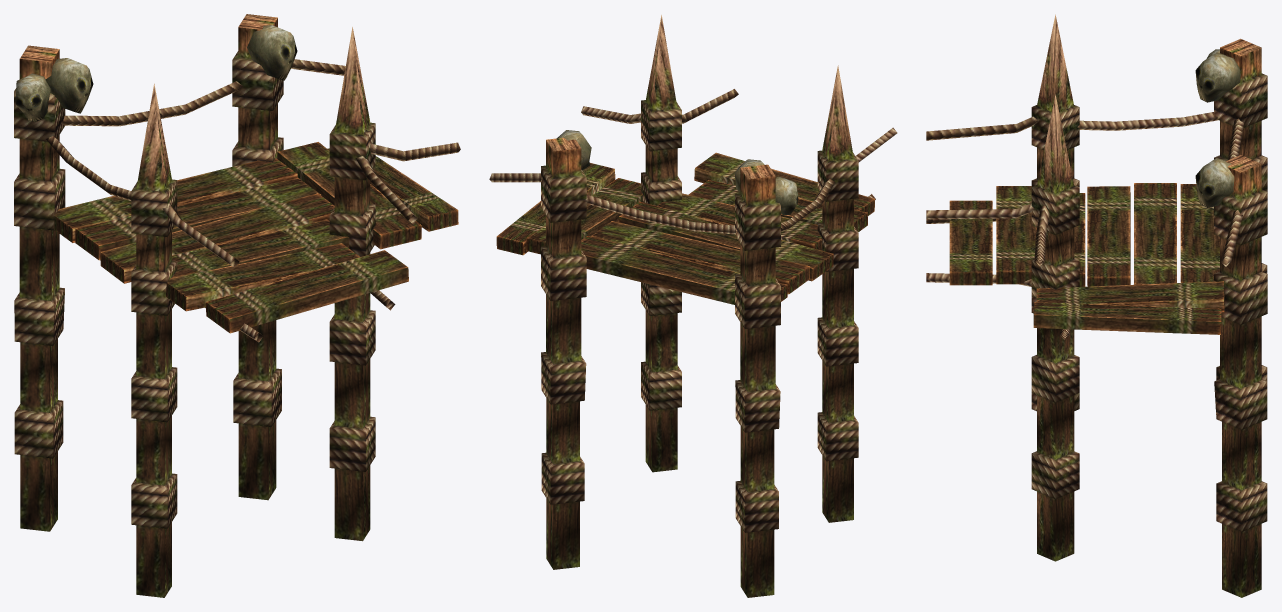
File: StoneRoad05.FBX
The picture shows the model from 3 angles, left to right: view 1: azimuth 30°, elevation 25°; view 2: azimuth 150°, elevation 25°; view 3: azimuth 270°, elevation 25°; orthographic projection. The views are drawn at different scales.
Visible parts, largest first — view 1: StoneRoad05; view 2: StoneRoad05; view 3: StoneRoad05.
Boxes of the visible parts, <box> form: StoneRoad05: <box>14,14,460,597</box>; StoneRoad05: <box>489,15,897,597</box>; StoneRoad05: <box>926,14,1267,597</box>.
Size of the model in its own units: 434 by 659 by 414.
